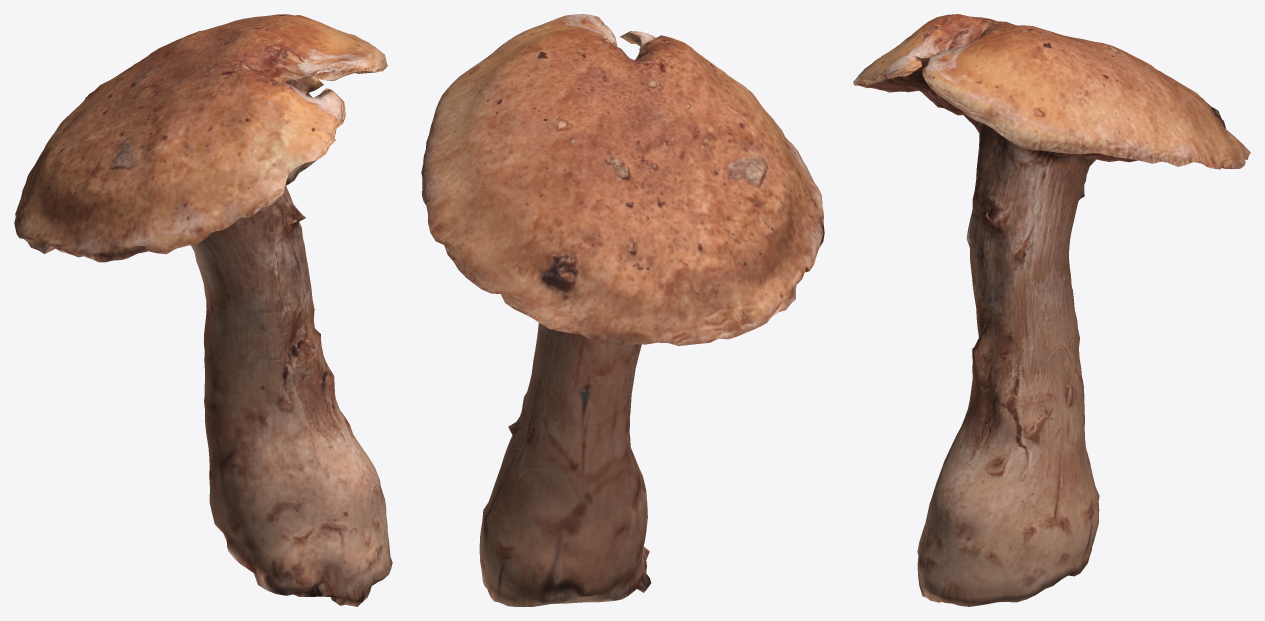
File: Mushroom.fbx
3 renders of one model, left to right at view 1: azimuth 30°, elevation 25°; view 2: azimuth 150°, elevation 25°; view 3: azimuth 270°, elevation 25°, orthographic. The views are drawn at different scales.
Parts seen in each view (by area): view 1: mushroomlow; view 2: mushroomlow; view 3: mushroomlow.
Boxes of the visible parts, x1,y1,x2,y2 form: mushroomlow: [14, 14, 392, 606]; mushroomlow: [421, 14, 824, 606]; mushroomlow: [853, 14, 1250, 606].
Size of the model in its own units: 81.68 by 130 by 85.43.
